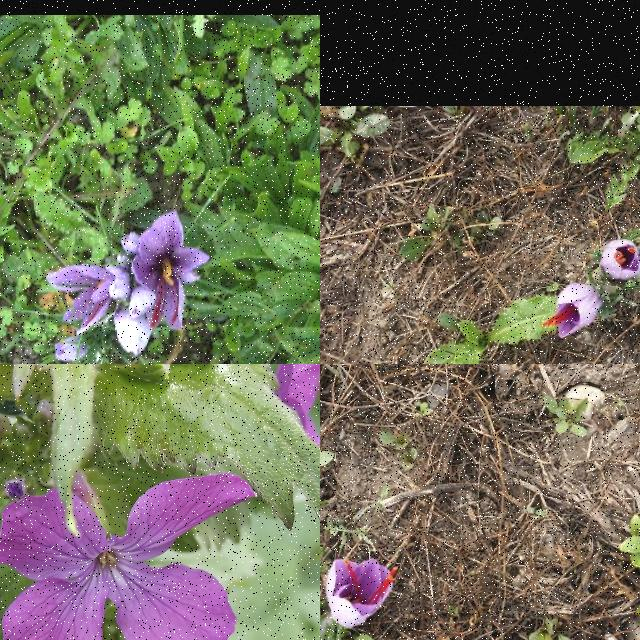flower: (45, 211, 211, 361), (326, 557, 398, 629), (542, 284, 602, 338), (599, 238, 640, 278)
